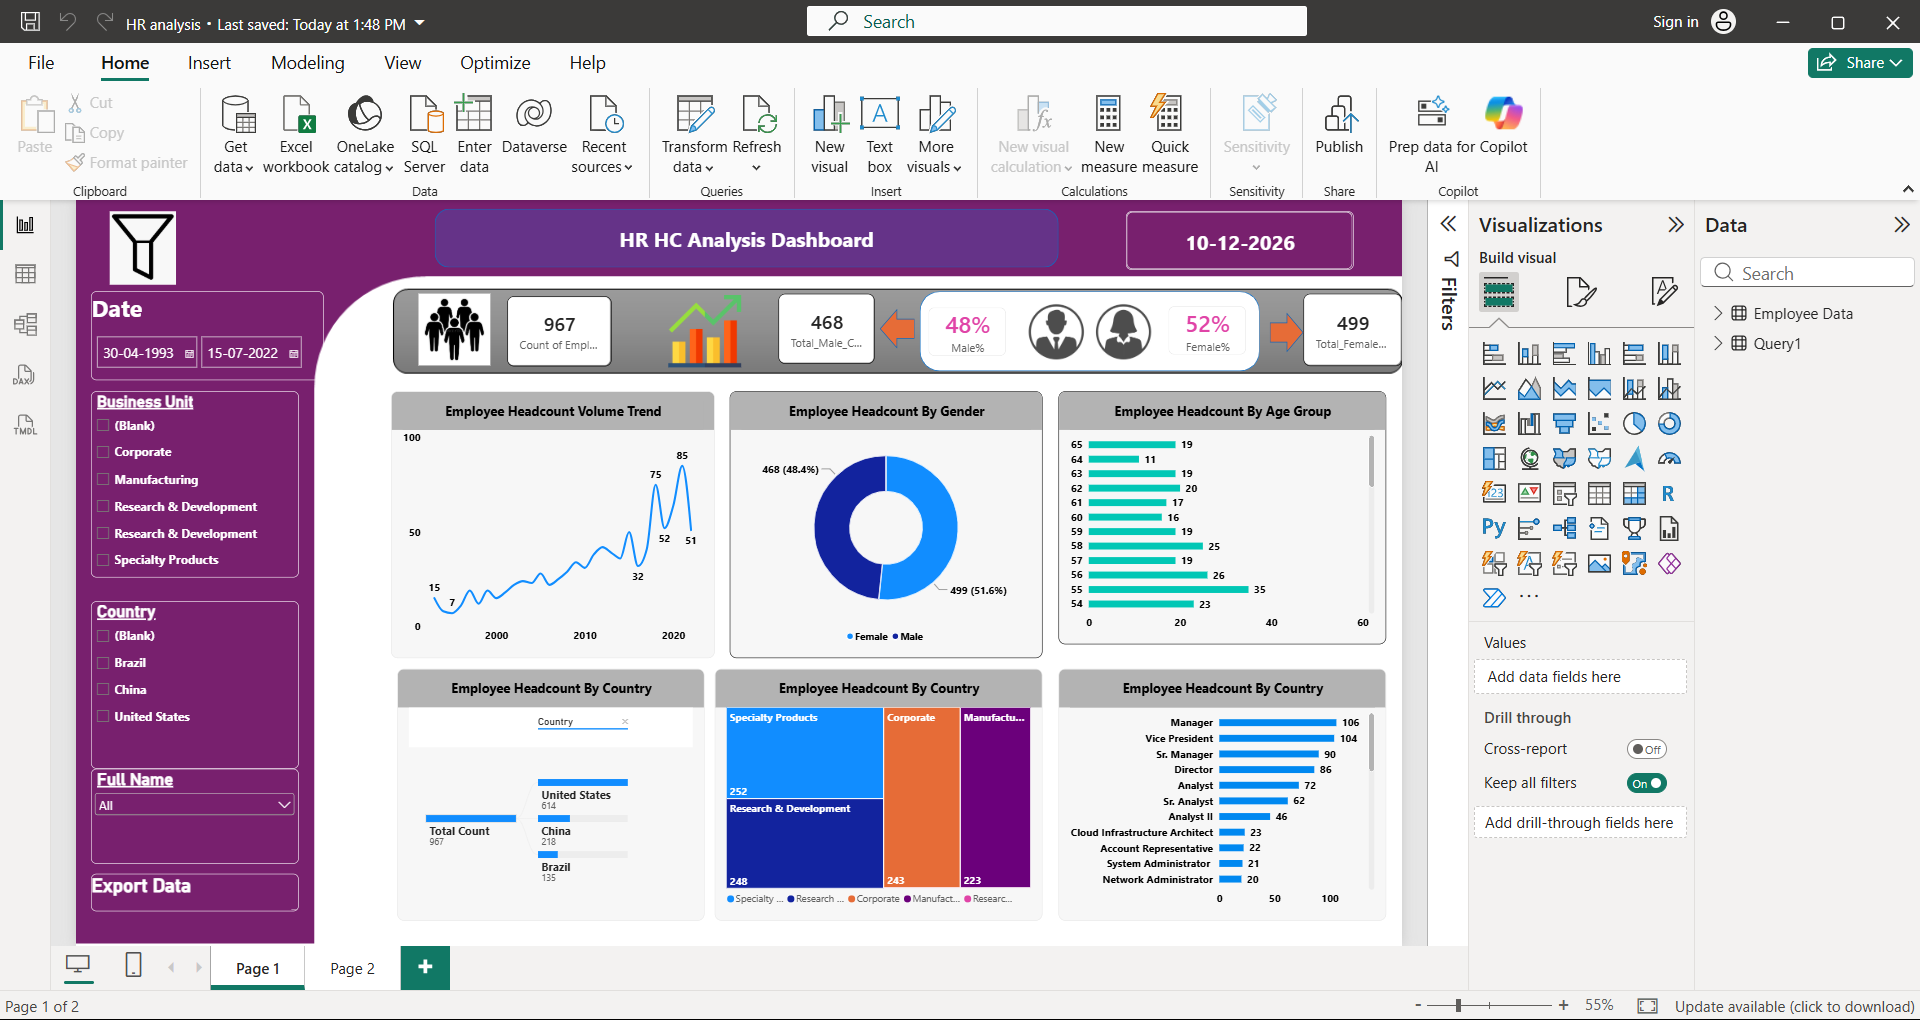

What the dashboard file says about the page in this screenshot:
{"tool":"powerbi","page":{"name":"Page 1","canvas":[1920,1080],"ordinal":0},"visuals":[{"type":"cardVisual","fields":{"Data":["CountNonNull(Employee Data.Employee ID)"]},"box":[623.5,139.2,151,102],"z":0},{"type":"image","box":[496.1,133.3,103.9,107.8],"z":1000},{"type":"lineChart","title":"Employee Headcount Volume Trend","fields":{"Category":["Employee Data.Hire Date.Variation.Date Hierarchy.Year"],"Y":["CountNonNull(Employee Data.Employee ID)"]},"box":[456.9,276.5,468.6,386.3],"z":2000},{"type":"donutChart","title":"Employee Headcount By Gender","fields":{"Category":["Employee Data.Gender"],"Y":["CountNonNull(Employee Data.Employee ID)"]},"box":[947.1,276.5,452.9,386.3],"z":3000},{"type":"clusteredBarChart","title":"Employee Headcount By Age Group","fields":{"Category":["Employee Data.Age"],"Y":["CountNonNull(Employee Data.Employee ID)"]},"box":[1421.6,276.5,474.5,366.7],"z":4000},{"type":"decompositionTreeVisual","title":"Employee Headcount By Country","fields":{"Analyze":["CountNonNull(Employee Data.Country)"],"ExplainBy":["Employee Data.Country"]},"box":[464.7,678.4,445.1,364.7],"z":5000},{"type":"treemap","title":"Employee Headcount By Country","fields":{"Group":["Employee Data.Business Unit"],"Values":["CountNonNull(Employee Data.Employee ID)"]},"box":[925.5,678.4,474.5,364.7],"z":6000},{"type":"clusteredBarChart","title":"Employee Headcount By Country","fields":{"Category":["Employee Data.Job Title"],"Y":["CountNonNull(Employee Data.Employee ID)"]},"box":[1421.6,678.4,474.5,364.7],"z":7000},{"type":"shape","box":[1221.5,132.1,492.2,115.8],"z":8000},{"type":"image","box":[1359.1,139.3,217.2,103.2],"z":9000},{"type":"cardVisual","fields":{"Data":["Employee Data.Total_Male_Count"]},"box":[1017,135.7,139.3,101.3],"z":10000},{"type":"cardVisual","fields":{"Data":["Employee Data.Total_Female_Count"]},"box":[1777.1,135.7,143,105],"z":11000},{"type":"cardVisual","fields":{"Data":["Employee Data.Male%"]},"box":[1234.2,155.6,112.2,70.6],"z":12000},{"type":"cardVisual","fields":{"Data":["Employee Data.Female%"]},"box":[1581.6,153.8,112.2,70.6],"z":13000},{"type":"shape","box":[519.4,12.7,903,85.1],"z":14000},{"type":"image","box":[827,137.5,166.5,105],"z":15000},{"type":"shape","box":[1163.6,157.4,50.7,57.9],"z":16000},{"type":"shape","box":[1728.2,162.9,48.9,57.9],"z":17000},{"type":"slicer","fields":{"Values":["Employee Data.Business Unit"]},"box":[21.7,276.9,300.4,269.6],"z":18000},{"type":"slicer","fields":{"Values":["Employee Data.Country"]},"box":[21.7,580.9,300.4,242.5],"z":19000},{"type":"slicer","fields":{"Values":["Employee Data.Full Name"]},"box":[21.7,823.4,300.4,137.5],"z":20000},{"type":"slicer","title":"Date","fields":{"Values":["Employee Data.Hire Date"]},"box":[21.7,132.1,336.6,128.5],"z":21000},{"type":"cardVisual","fields":{"Data":["Min(Query1.Date)"]},"box":[1520.1,16.3,329.4,85.1],"z":22000},{"type":"image","box":[0,16.3,193.6,106.8],"z":23000},{"type":"tableEx","title":"Export Data","fields":{"Values":["Employee Data.Full Name","Employee Data.Gender","Employee Data.Female%"]},"box":[21.7,975.4,300.4,54.3],"z":23001}]}

Visuals, with their boxes on the page's 1920x1080 design canvas (x1, y1, x2, y2). These are canvas units, not pixel positions in the 1920x1020 screenshot, which may show the page scaled, cropped or inside an application window:
cardVisual - CountNonNull(Employee Data.Employee ID): <region>624, 139, 774, 241</region>
image: <region>496, 133, 600, 241</region>
"Employee Headcount Volume Trend" lineChart: <region>457, 276, 926, 663</region>
"Employee Headcount By Gender" donutChart: <region>947, 276, 1400, 663</region>
"Employee Headcount By Age Group" clusteredBarChart: <region>1422, 276, 1896, 643</region>
"Employee Headcount By Country" decompositionTreeVisual: <region>465, 678, 910, 1043</region>
"Employee Headcount By Country" treemap: <region>926, 678, 1400, 1043</region>
"Employee Headcount By Country" clusteredBarChart: <region>1422, 678, 1896, 1043</region>
shape: <region>1222, 132, 1714, 248</region>
image: <region>1359, 139, 1576, 242</region>
cardVisual - Employee Data.Total_Male_Count: <region>1017, 136, 1156, 237</region>
cardVisual - Employee Data.Total_Female_Count: <region>1777, 136, 1920, 241</region>
cardVisual - Employee Data.Male%: <region>1234, 156, 1346, 226</region>
cardVisual - Employee Data.Female%: <region>1582, 154, 1694, 224</region>
shape: <region>519, 13, 1422, 98</region>
image: <region>827, 138, 994, 242</region>
shape: <region>1164, 157, 1214, 215</region>
shape: <region>1728, 163, 1777, 221</region>
slicer - Employee Data.Business Unit: <region>22, 277, 322, 546</region>
slicer - Employee Data.Country: <region>22, 581, 322, 823</region>
slicer - Employee Data.Full Name: <region>22, 823, 322, 961</region>
"Date" slicer: <region>22, 132, 358, 261</region>
cardVisual - Min(Query1.Date): <region>1520, 16, 1850, 101</region>
image: <region>0, 16, 194, 123</region>
"Export Data" tableEx: <region>22, 975, 322, 1030</region>
